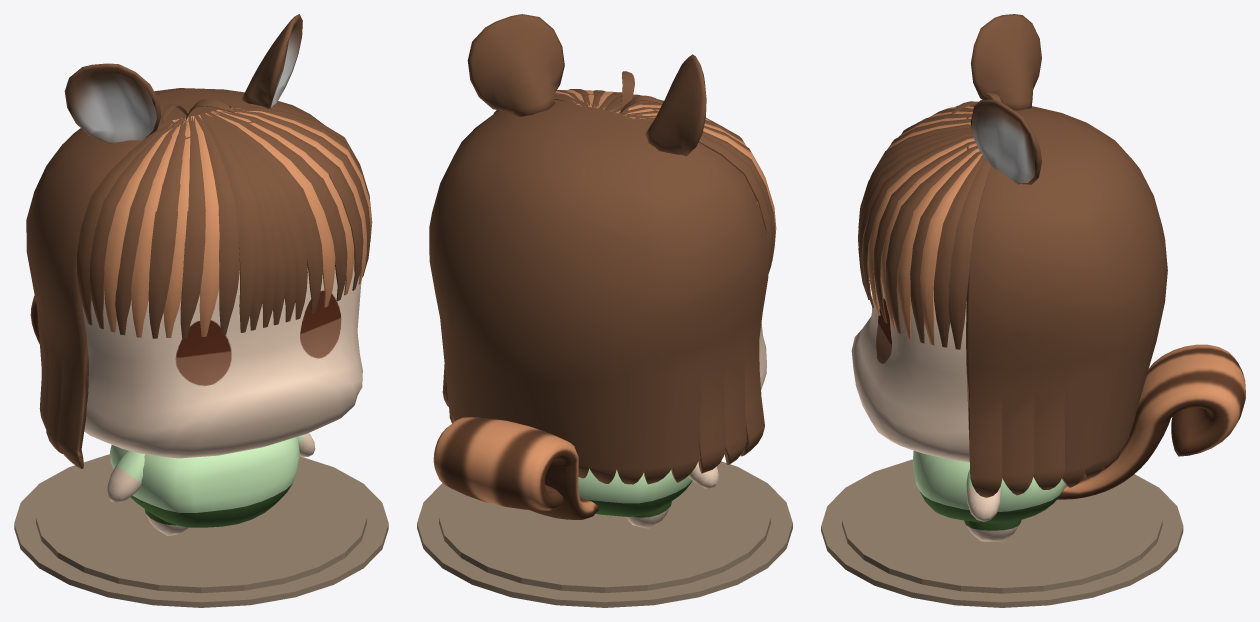
The model's file is squirrel.fbx.
3 views of the same model, side by side, from view 1: azimuth 30°, elevation 25°; view 2: azimuth 150°, elevation 25°; view 3: azimuth 270°, elevation 25° (orthographic). The views are drawn at different scales.
Visible parts, largest first — view 1: pCube3, base1, polySurface7, pCube4, pCube145, pCube139, pCube137, pCube135, pCube134, pCube66, pCube136, pCube106 (+20 smaller); view 2: polySurface7, base1, shippo, pCube106, pCube145, pCube4, pCube144, pCube143, pCube142, pCube39; view 3: polySurface7, base1, pCube3, shippo, pCube145, pCube4, pCube106, pCube88, pCube74, pCube69, pCube73, pCube72 (+8 smaller).
Part boxes in pixels (x1,y1,x2,y2): pCube3: (82, 120, 362, 458); base1: (14, 454, 388, 607); polySurface7: (26, 88, 323, 468); pCube4: (110, 437, 299, 527); pCube145: (64, 63, 161, 143); pCube139: (148, 117, 188, 338); pCube137: (180, 116, 205, 338); pCube135: (194, 115, 239, 335); pCube134: (200, 116, 256, 332); pCube66: (207, 112, 323, 313); pCube136: (194, 114, 219, 336); pCube106: (242, 14, 302, 108); polySurface7: (429, 93, 768, 484); base1: (417, 461, 792, 607); shippo: (433, 417, 598, 519); pCube106: (467, 14, 564, 116); pCube145: (645, 54, 706, 156); pCube4: (578, 468, 692, 516); pCube144: (627, 114, 772, 273); pCube143: (627, 114, 775, 271); pCube142: (626, 115, 776, 261); pCube39: (626, 501, 671, 528); polySurface7: (966, 106, 1167, 497); base1: (821, 459, 1183, 607); pCube3: (851, 279, 969, 462); shippo: (1057, 344, 1245, 499); pCube145: (971, 14, 1041, 110); pCube4: (913, 451, 1066, 523); pCube106: (971, 99, 1041, 184); pCube88: (948, 158, 991, 349); pCube74: (933, 155, 984, 347); pCube69: (886, 146, 977, 333); pCube73: (920, 153, 982, 345); pCube72: (910, 151, 981, 343).
Size of the model in its own units: 6 by 8.64 by 7.03.
Materials: 3 (2 with a texture image).
